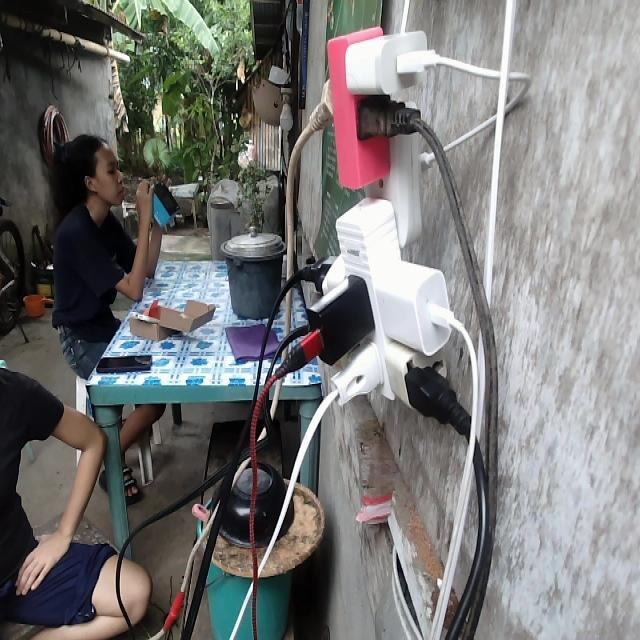-: (294, 25, 460, 420)
